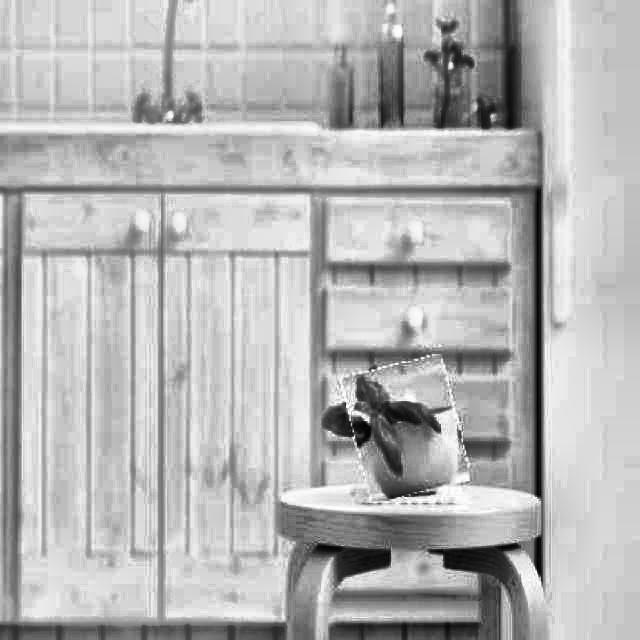plants: (347, 360, 464, 498)
